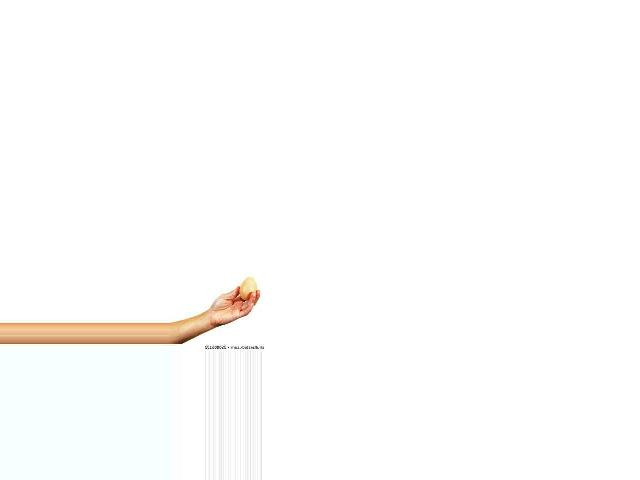egg: (238, 277, 256, 301)
